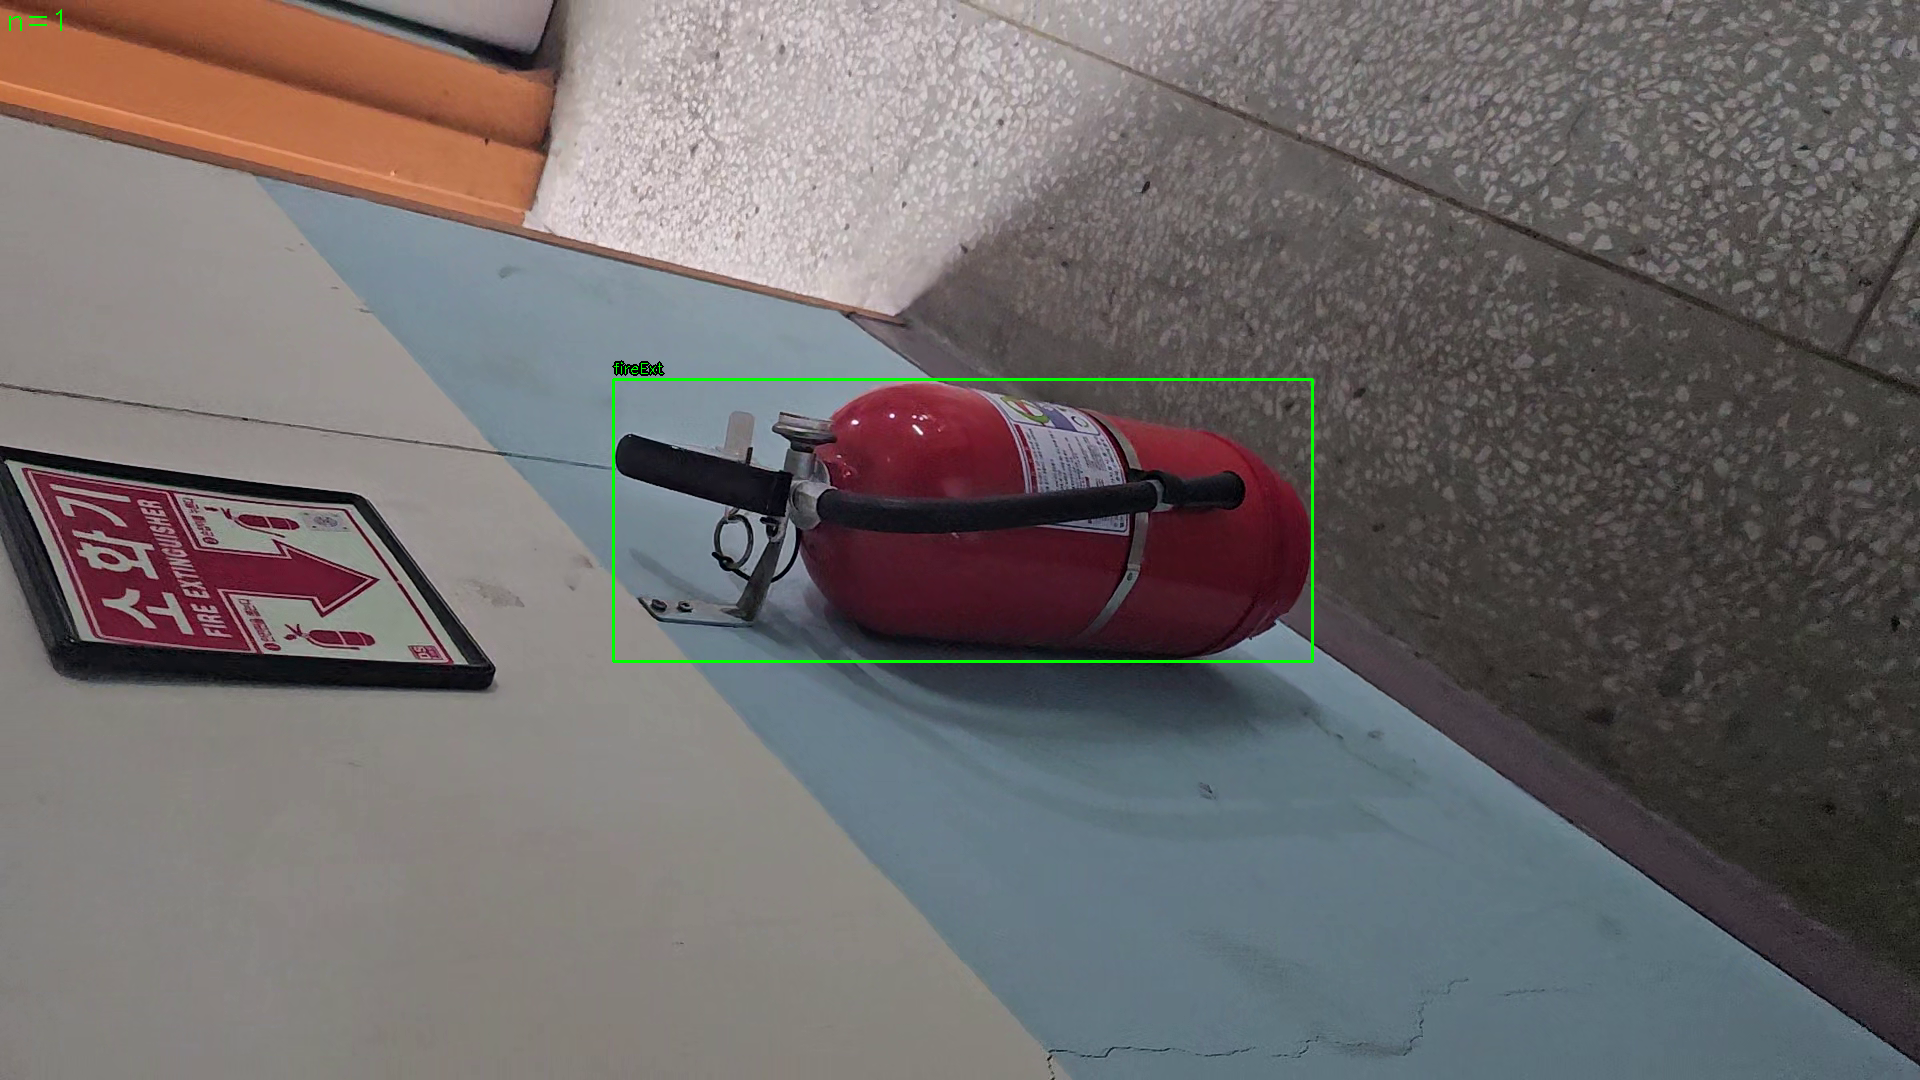lane: (613, 378, 1313, 662)
